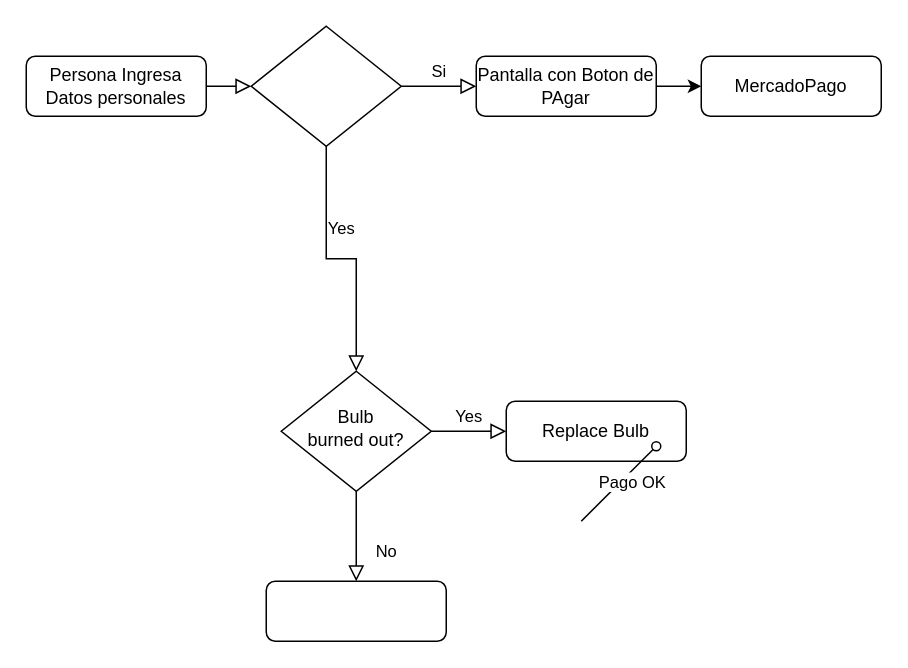
This 908x668 diagram has some shape labels left out. Each missing label, with the centre of its shape:
"Evento Con MercadoPago" goes at [325,85].
"Repair Lamp" goes at [355,610].
